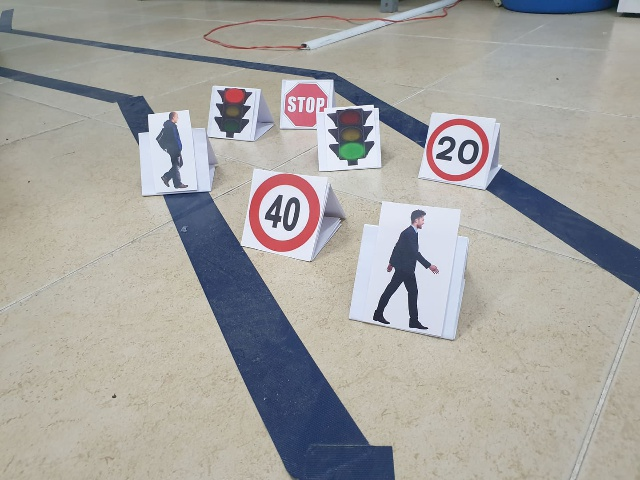Green: (321, 108, 380, 169)
Limit 20: (429, 115, 487, 184)
Limit 40: (250, 170, 321, 254)
Person: (381, 203, 443, 331), (149, 109, 195, 195)
Red: (213, 87, 255, 139)
Stop: (280, 82, 326, 124)
